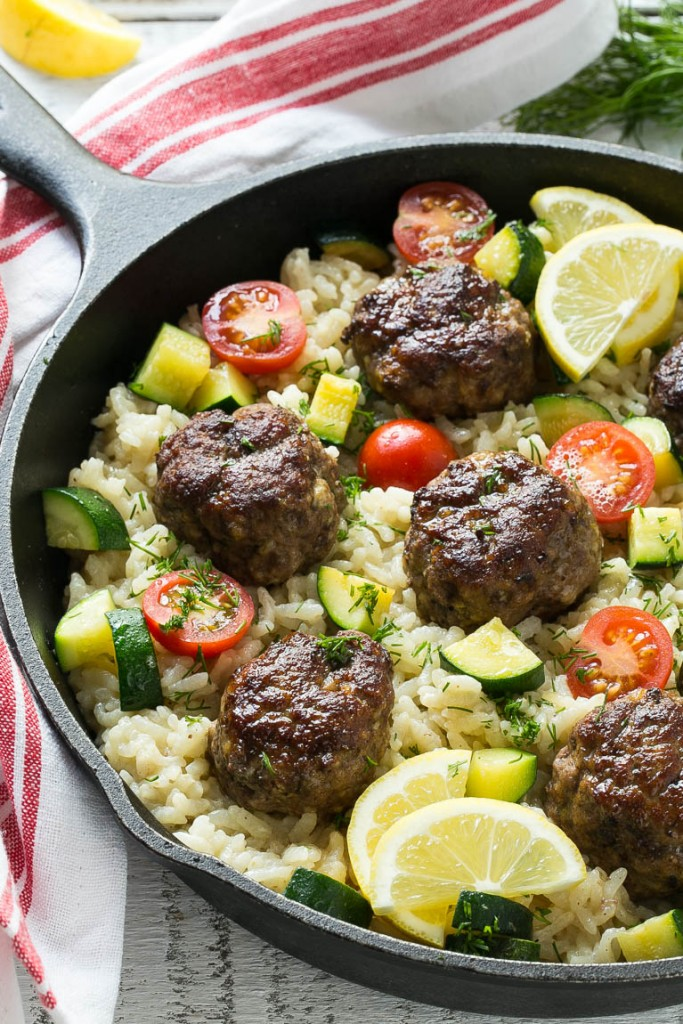meatballs: (423, 456, 584, 602), (173, 415, 327, 559), (361, 268, 535, 394), (242, 634, 387, 780), (578, 696, 683, 842)
plain rice: (118, 711, 203, 808)
